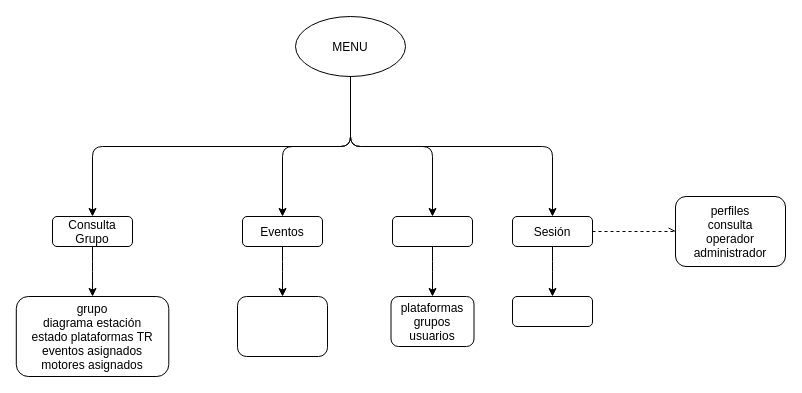
This 802x393 diagram has some shape labels left out. Each missing label, with the box of its shape:
abrir cerrar: (512, 296, 592, 326)
Configuración: (392, 216, 472, 246)
consulta creación modificación eliminación: (236, 296, 328, 356)
